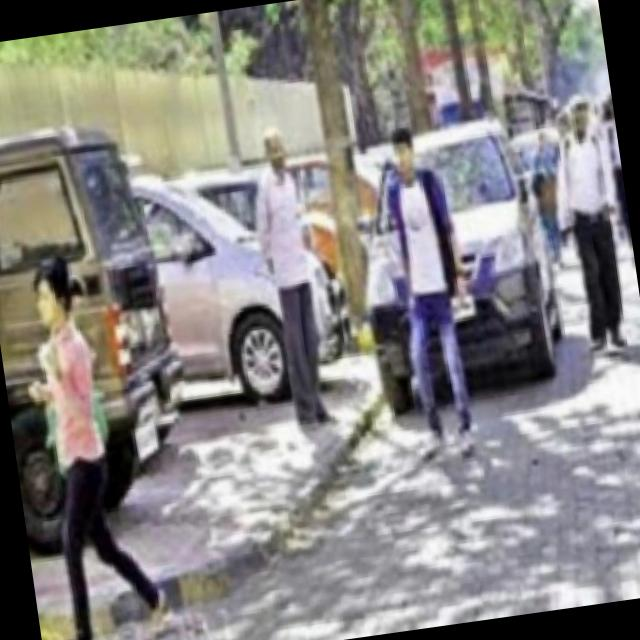Person: (5, 241, 178, 640), (372, 118, 485, 464), (248, 124, 343, 440), (542, 91, 637, 360), (600, 81, 635, 278)
